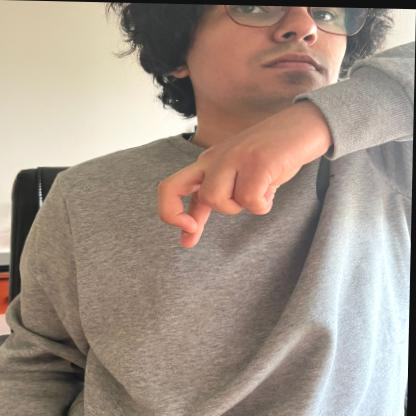P: (155, 91, 334, 253)
